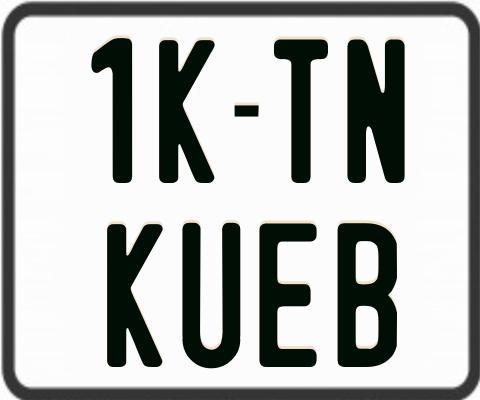1: (91, 37, 133, 185)
B: (337, 221, 397, 368)
E: (259, 221, 320, 370)
K: (106, 223, 167, 371), (156, 40, 217, 184)
N: (344, 36, 403, 186)
T: (273, 37, 329, 186)
U: (181, 223, 240, 372)
